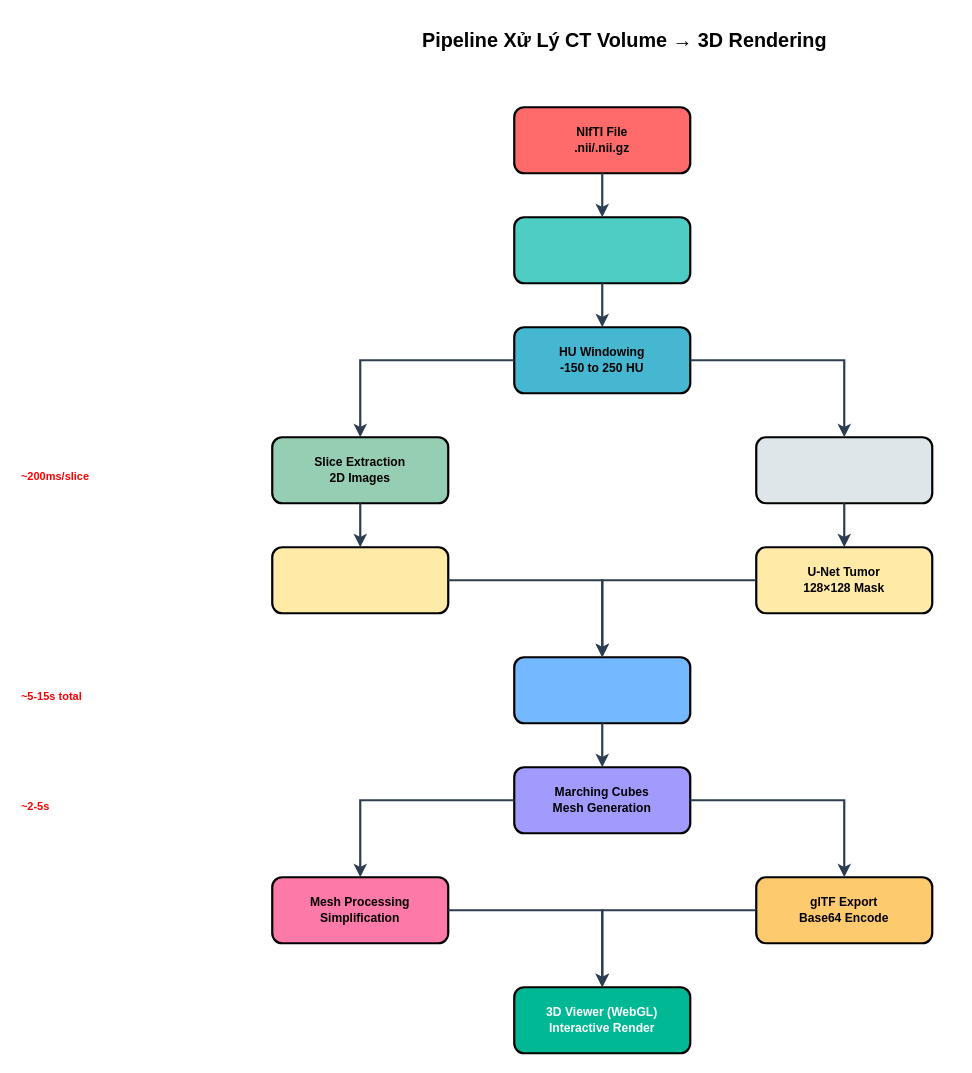
Some shapes in this 972 by 1073 pixel diagram are drawn without their labels. The shapes that lost their labels are listed below. From the top down, each one's centre as x and y in pixels, then its label:
At (602,250): "Load Volume 512×512×200".
At (844,470): "Loop Processing Z=0 to N".
At (360,580): "U-Net Pancreas 256×256 Mask".
At (602,690): "3D Mask Volume 256×256×N".
